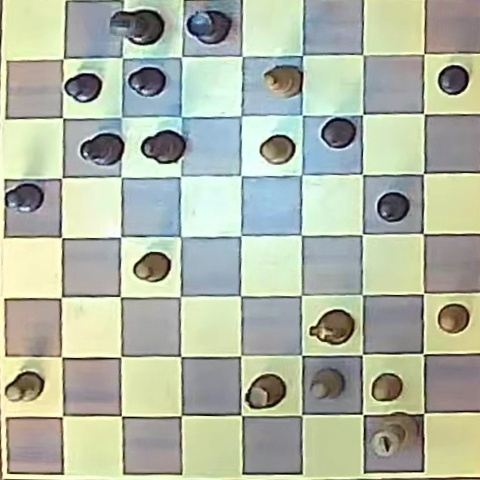black-bishop: (141, 130, 184, 164), (81, 133, 124, 166)
black-king: (111, 9, 164, 45)
black-pawn: (128, 66, 166, 97), (64, 72, 102, 102), (5, 183, 44, 212), (321, 118, 356, 149), (377, 192, 410, 222), (438, 65, 469, 95)
black-rook: (185, 9, 231, 45)
white-bishop: (264, 66, 301, 98)
white-king: (369, 414, 418, 458)
white-knight: (311, 309, 354, 345)
white-pawn: (5, 371, 44, 403), (133, 252, 170, 283), (310, 369, 343, 400), (260, 135, 295, 164), (437, 304, 469, 334), (372, 373, 403, 401)
white-rook: (246, 374, 286, 409)
